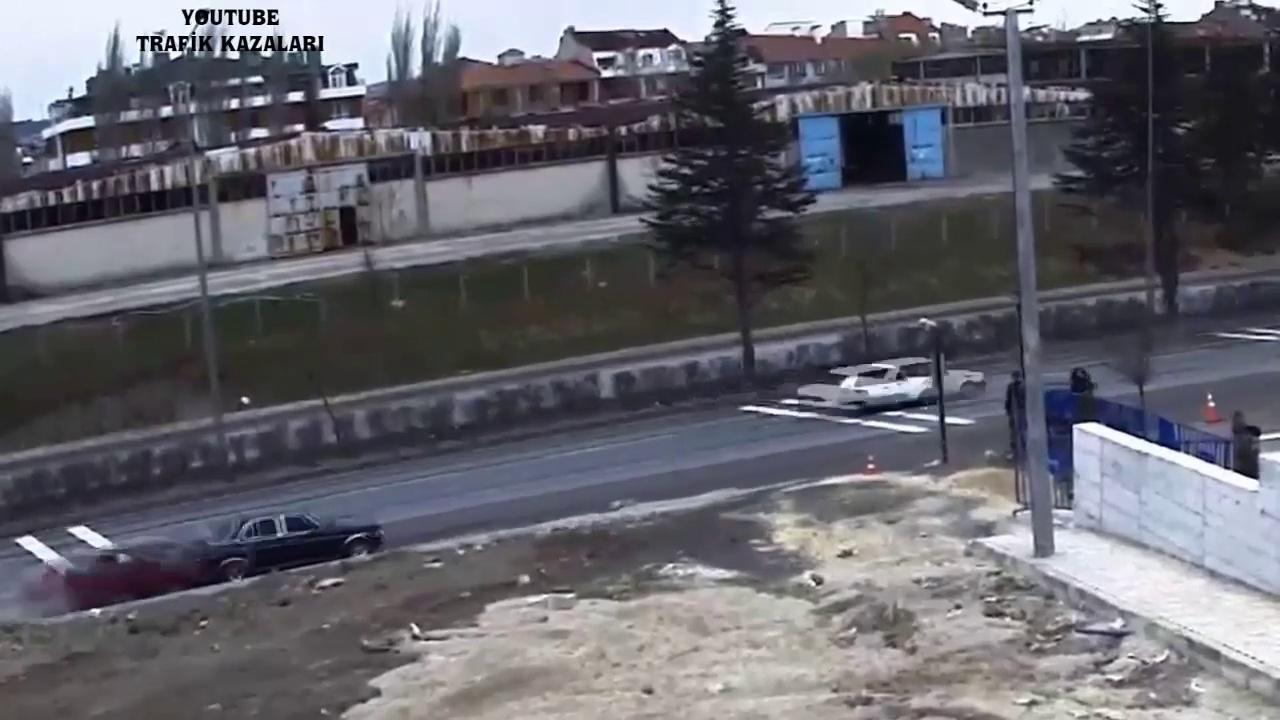car-accident: (37, 506, 379, 621)
